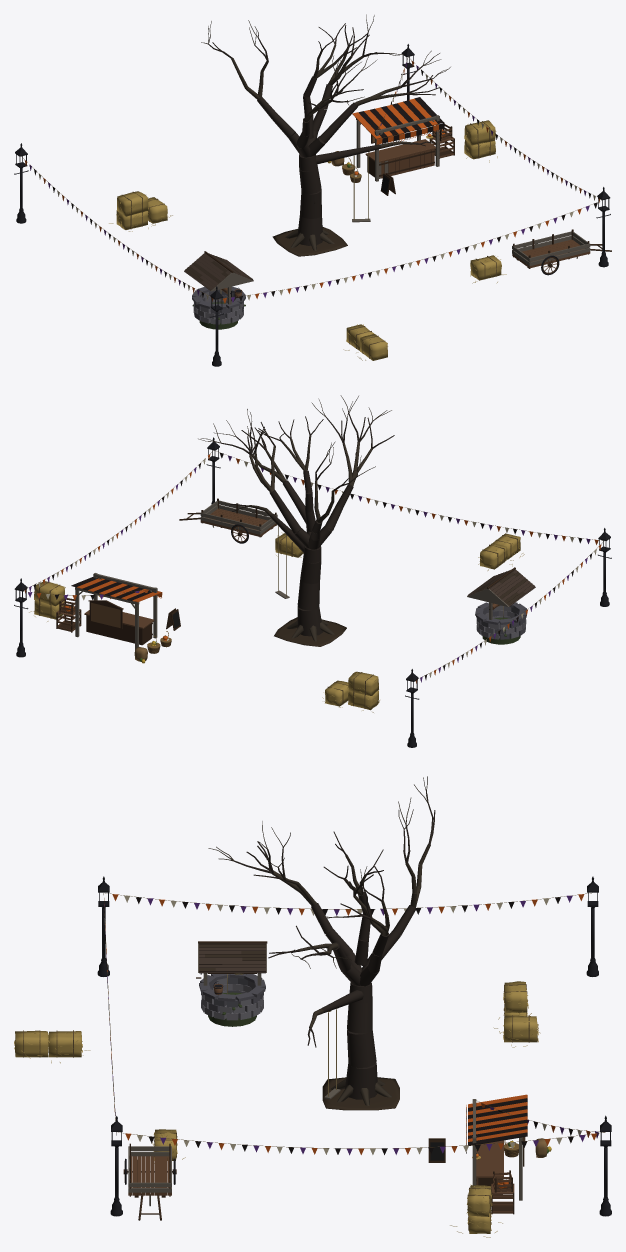
The model's file is hg-square.glb.
The picture shows the model from 3 angles, top to bottom: view 1: azimuth 30°, elevation 25°; view 2: azimuth 150°, elevation 25°; view 3: azimuth 270°, elevation 25°; orthographic projection. The views are drawn at different scales.
Visible parts, largest first — view 1: hg-square; view 2: hg-square; view 3: hg-square.
Part boxes in pixels (left/top/right/bottom): hg-square: left=14, top=14, right=611, bottom=366; hg-square: left=14, top=395, right=611, bottom=747; hg-square: left=14, top=776, right=611, bottom=1237.
Size of the model in its own units: 24.59 by 12.14 by 23.23.
